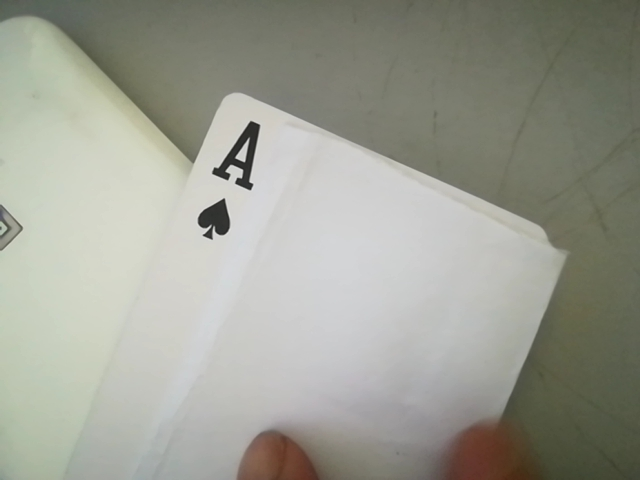ht a: (186, 103, 285, 250)
